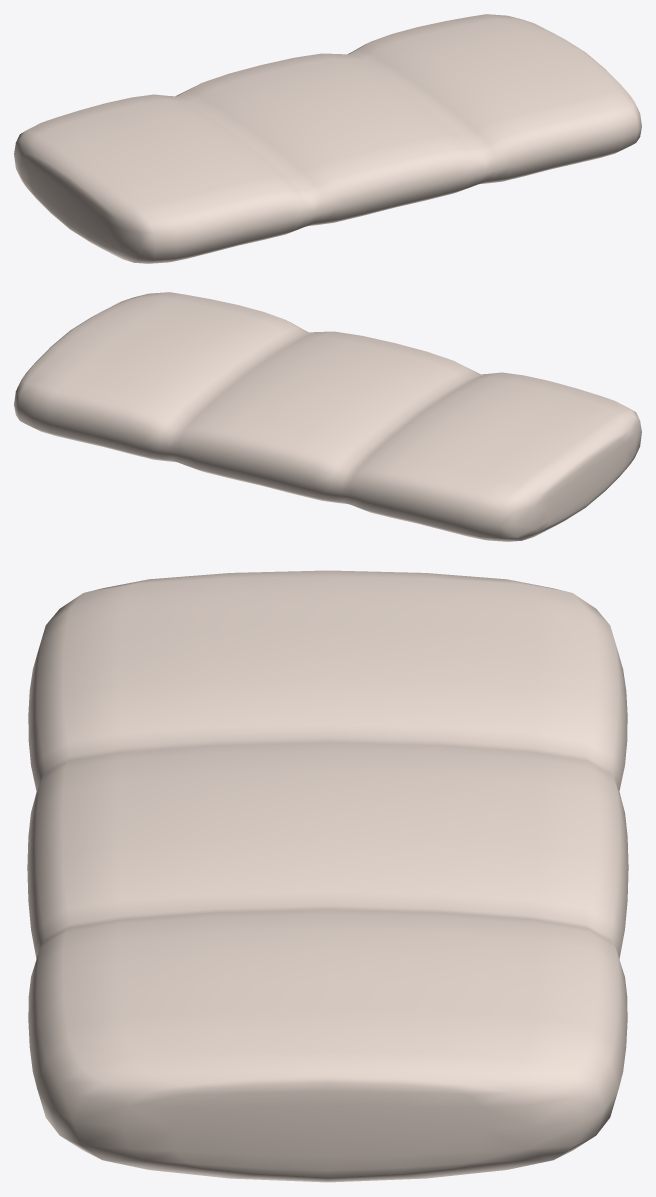
The model's file is Pillow_13.glb.
3 renders of one model, top to bottom at view 1: azimuth 30°, elevation 25°; view 2: azimuth 150°, elevation 25°; view 3: azimuth 270°, elevation 25°, orthographic. The views are drawn at different scales.
Parts seen in each view (by area): view 1: Pillow_13; view 2: Pillow_13; view 3: Pillow_13.
Part boxes in pixels (box(x1,y1,x2,y2)): Pillow_13: box(14, 14, 641, 263); Pillow_13: box(14, 292, 641, 541); Pillow_13: box(27, 570, 628, 1182).
Bounding box in the file's own units: 2.76 × 0.3417 × 1.38.
Materials: 1 (1 with a texture image).
